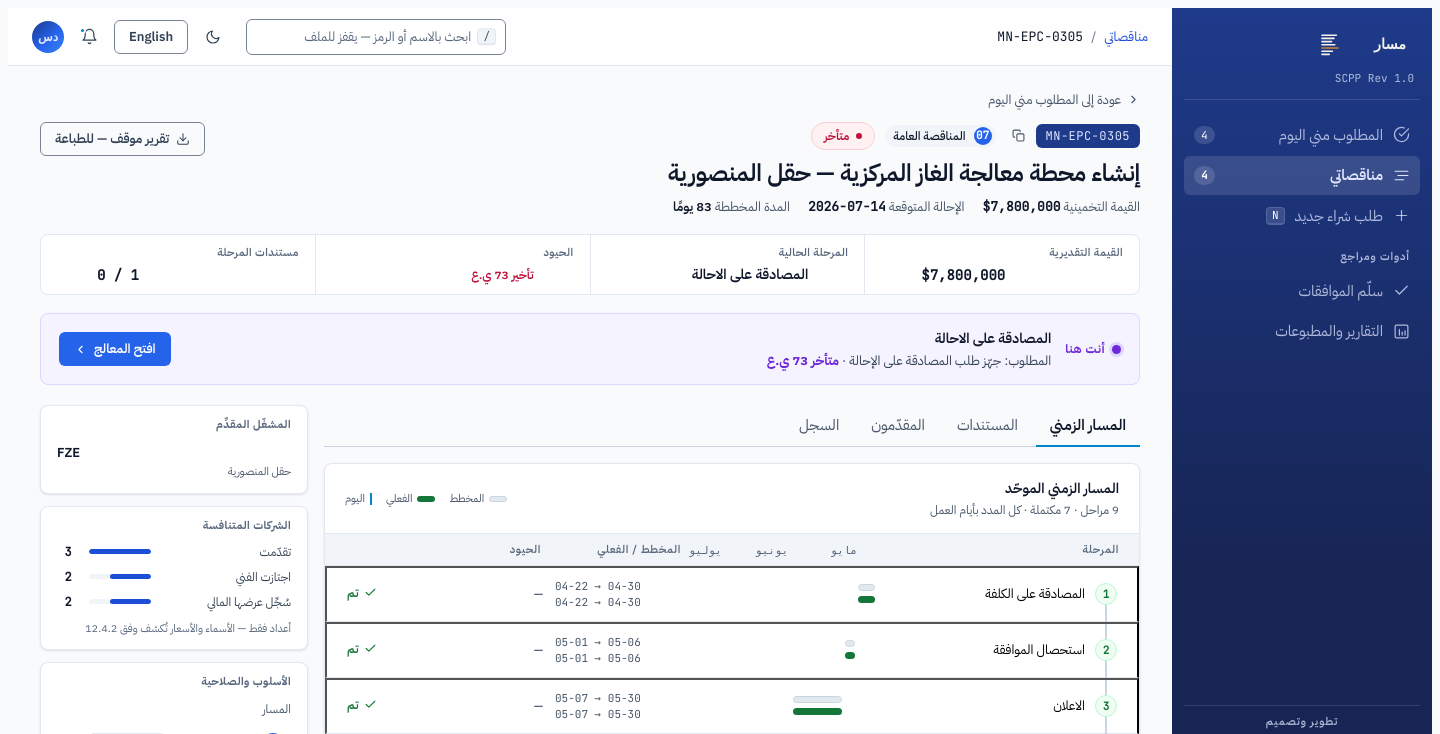
د11-ت1 — the log tab is READ-ONLY and filtered to this tender › stays honest on a tender no action has ever touched
Click the tab "السجل".
click(819, 426)  # box left=785, top=405, right=853, bottom=447
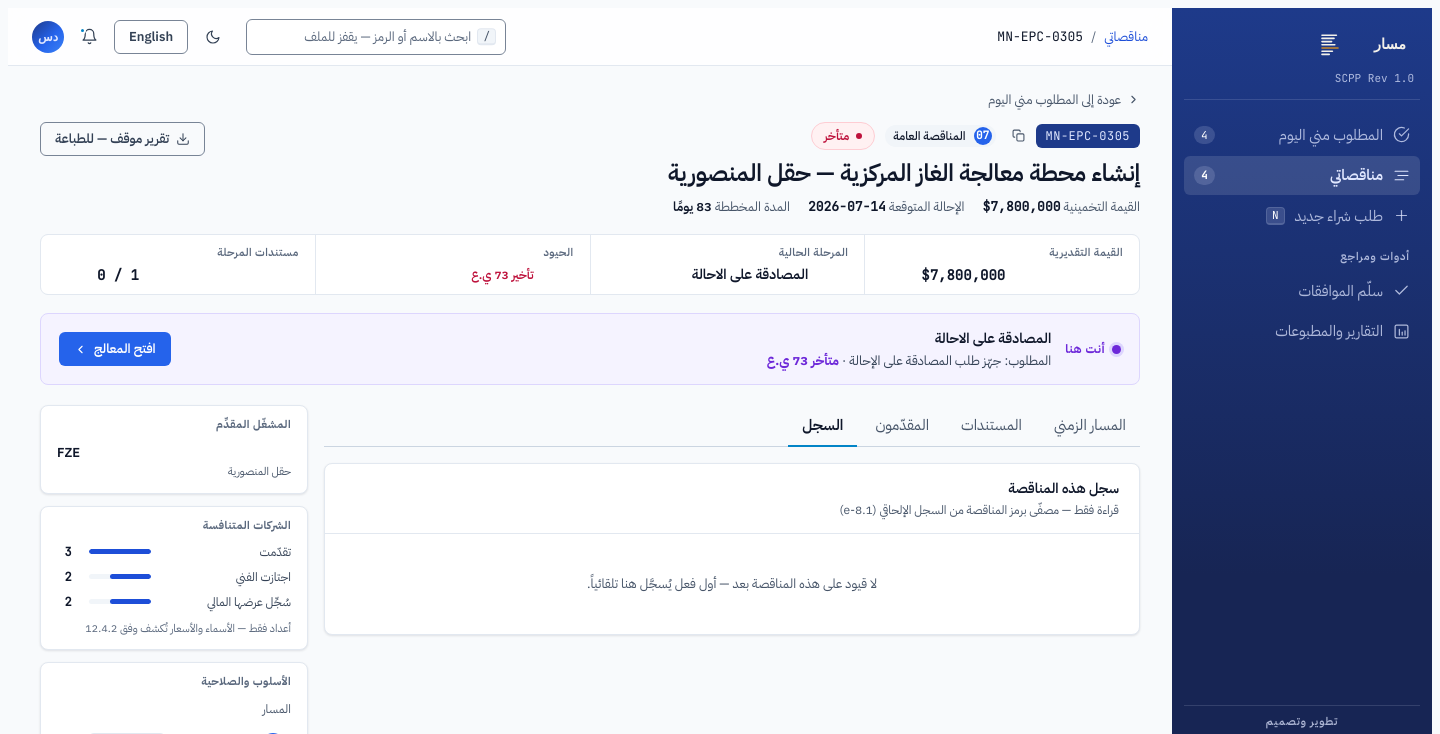
Now the text "لا قيود على هذه المناقصة بعد — أول فعل يُسجَّل هنا تلقائياً." is shown, box left=587, top=574, right=877, bottom=593
